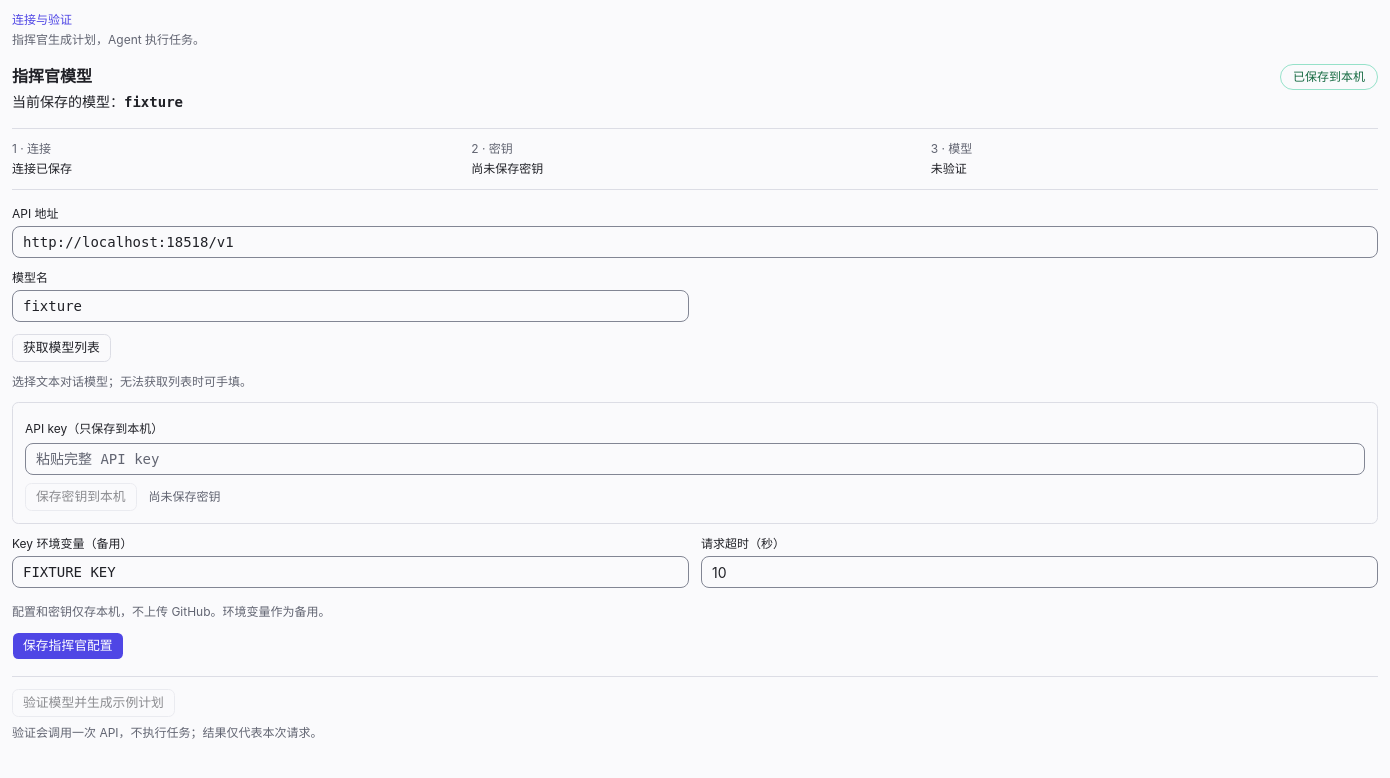
Test: retains verification failure until explicit retry and clears key without reading it back
This screenshot has width=1390, height=778.
Step 1. Type "synthetic-only" into the password field named "指挥官 API key" → (695, 459), box [25,443,1365,475]
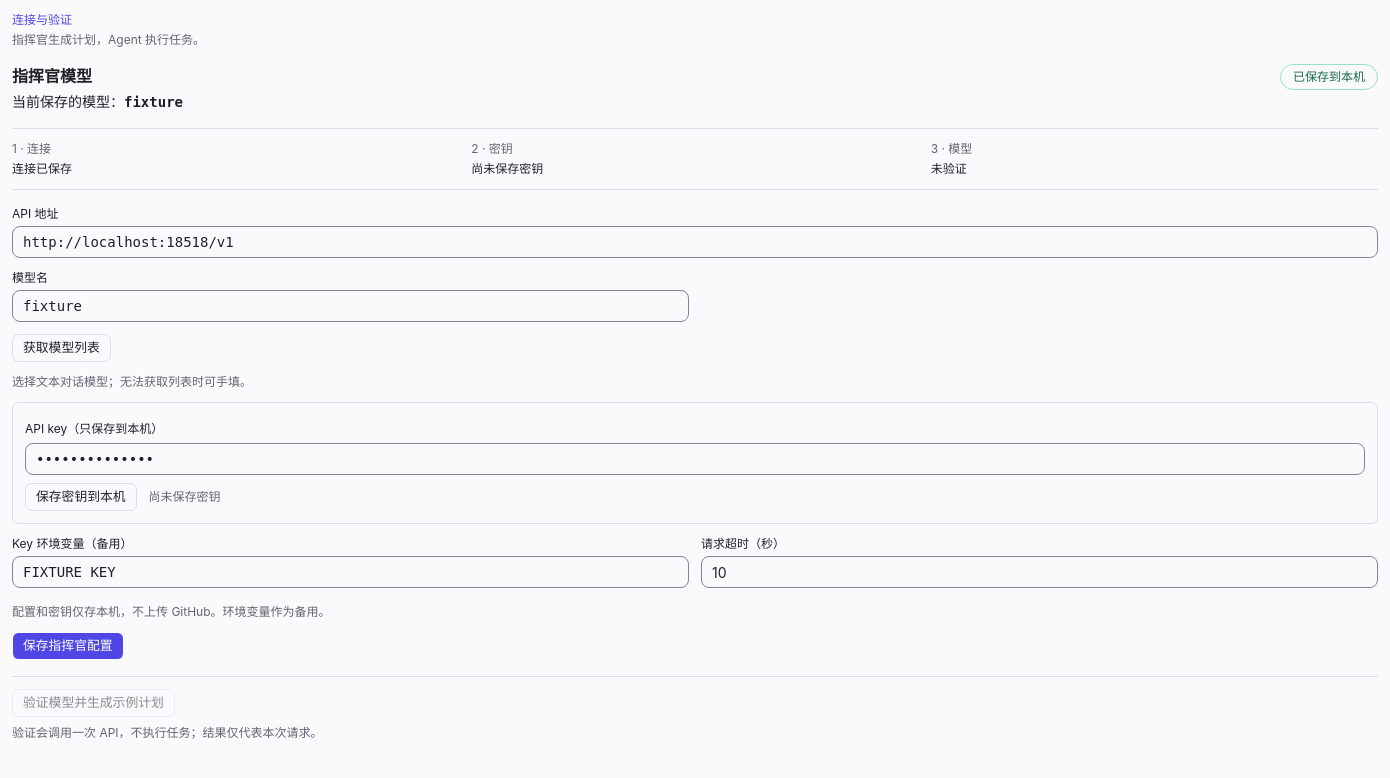
Step 2. Click the button "保存密钥到本机" → (81, 497), box [25,483,137,511]
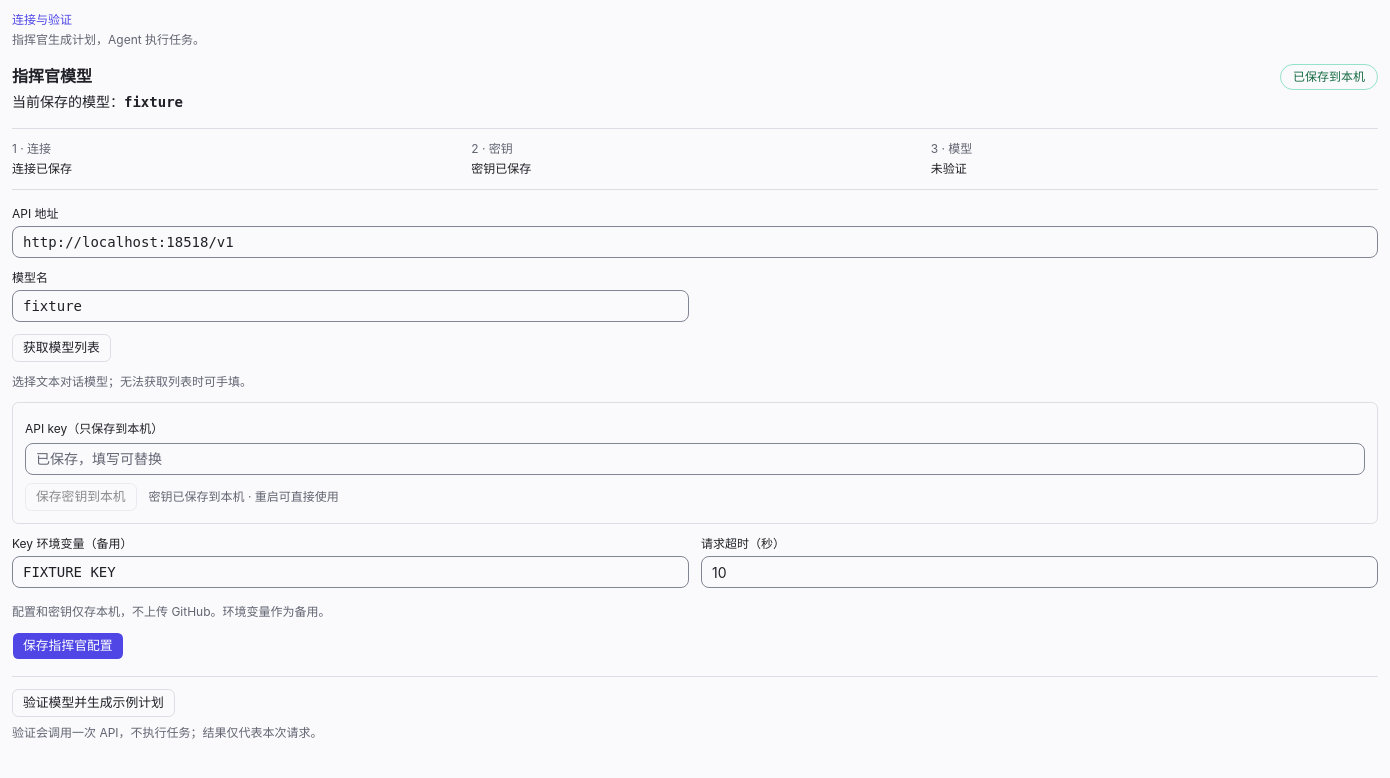
Expected: the message named "模型验证状态" reads "未验证", [931,161,967,176]
Result: the password field named "指挥官 API key" is empty at [25,443,1365,475]
Step 3. Click the button "验证模型并生成示例计划" → (93, 703), box [12,689,175,717]
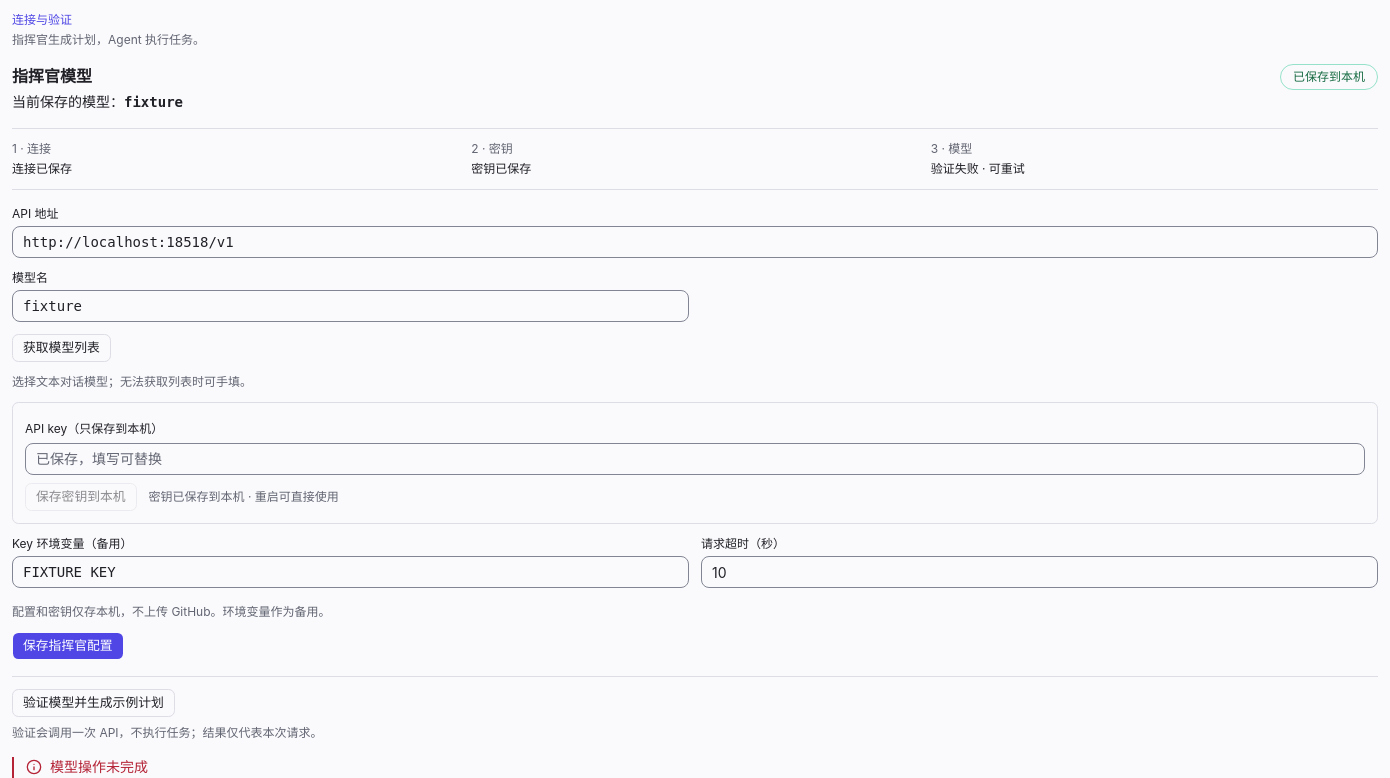
Result: the message named "模型验证状态" shows "验证失败" at [931,161,1025,176]
Step 4. Click the button "验证模型并生成示例计划" → (93, 703), box [12,689,175,717]
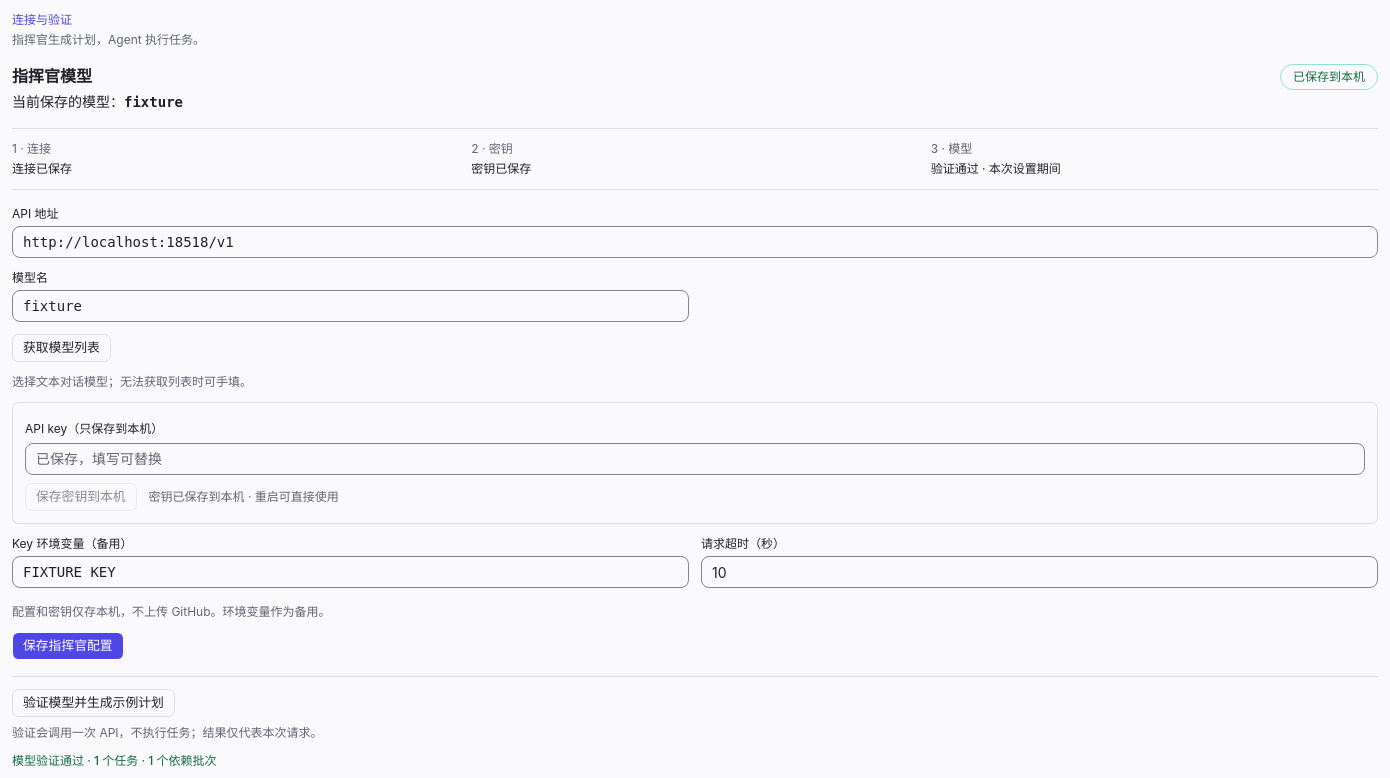
Result: the message named "模型验证状态" shows "验证通过" at [931,161,1061,176]
